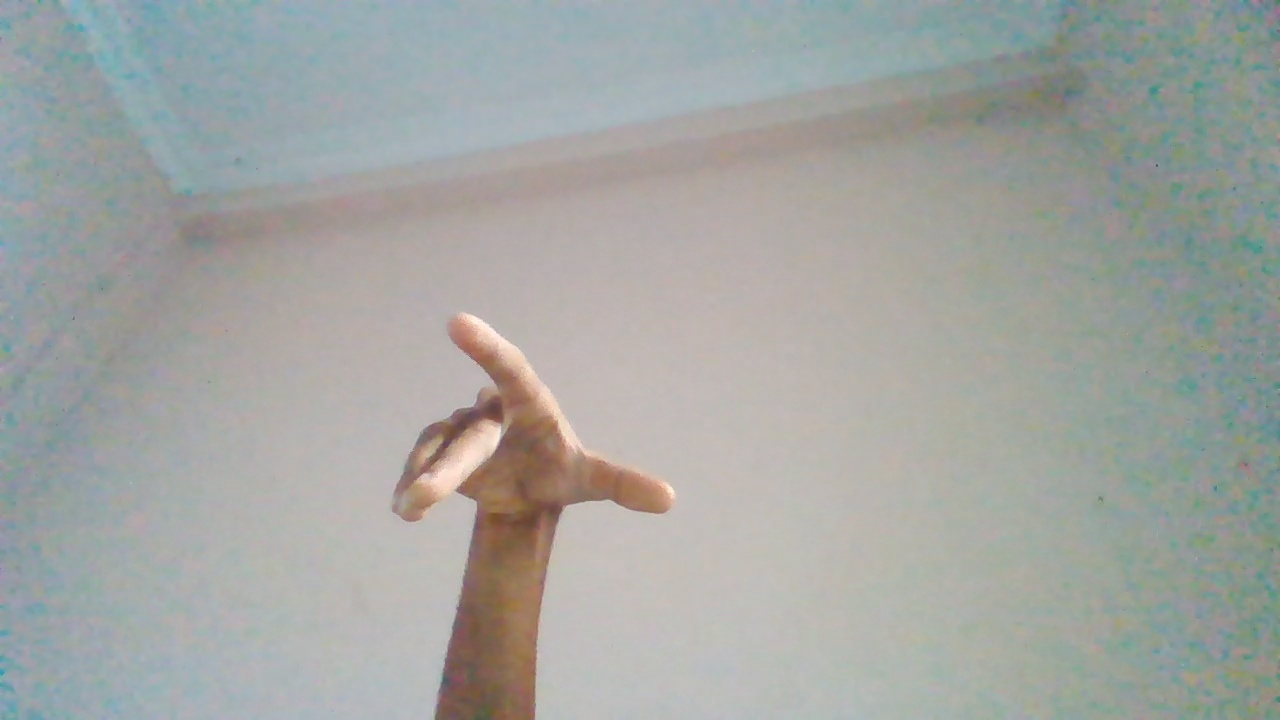ke: (391, 311, 675, 670)
